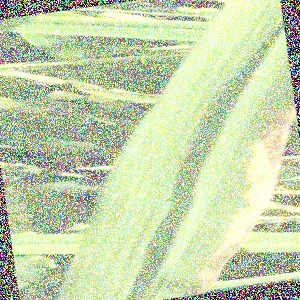Leaf_Blast: (114, 7, 294, 291)
